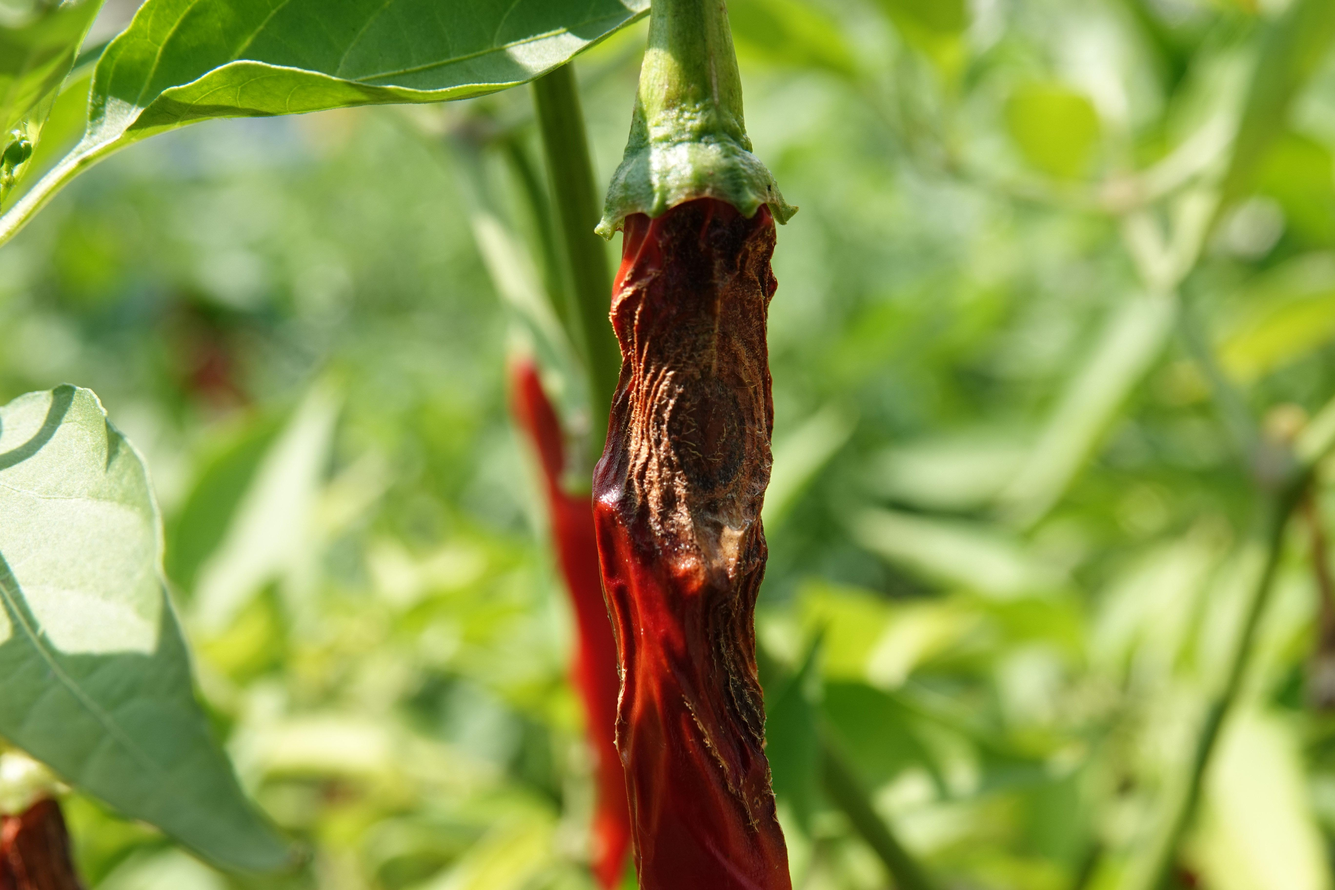Busuk Buah Antraknosa: (588, 94, 801, 883)
